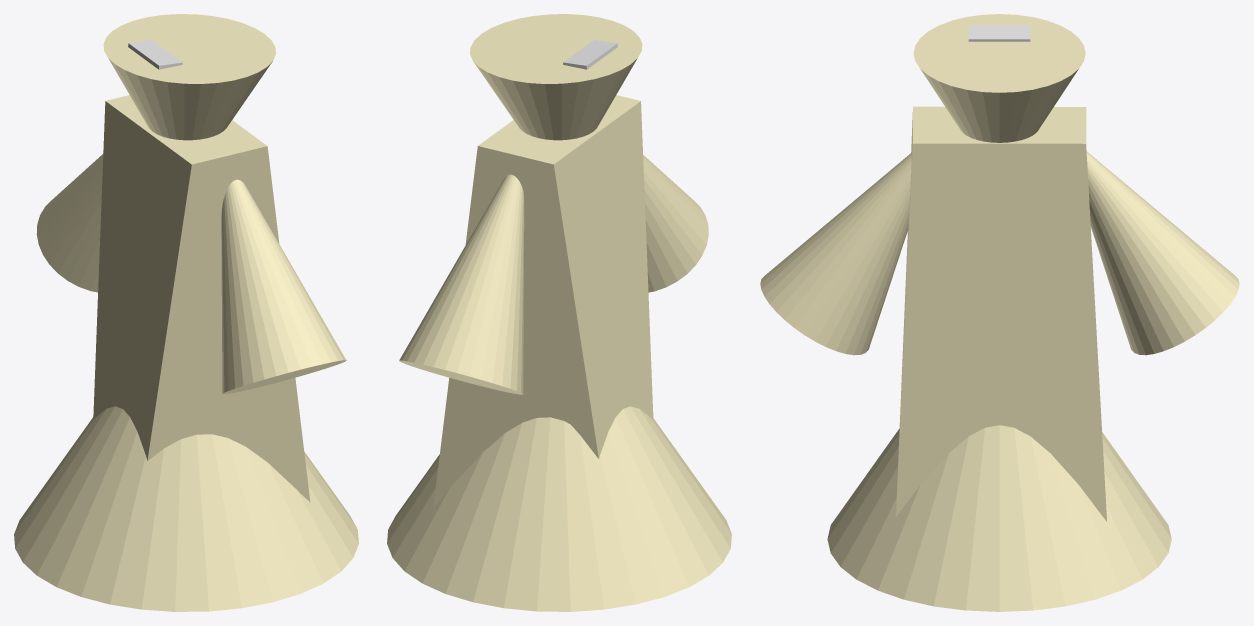
Rendered from cultist.fbx.
The picture shows the model from 3 angles, left to right: view 1: azimuth 30°, elevation 25°; view 2: azimuth 150°, elevation 25°; view 3: azimuth 270°, elevation 25°; orthographic projection.
Parts seen in each view (by area): view 1: Cone.003, Cube, Cone.002, Cone, Cone.001, Cube.001; view 2: Cone.003, Cube, Cone.001, Cone, Cone.002, Cube.001; view 3: Cube, Cone.003, Cone.001, Cone.002, Cone, Cube.001.
Part boxes in pixels (x1,y1,x2,y2): Cone.003: (14,406,358,611); Cube: (93,95,310,501); Cone.002: (221,179,346,394); Cone: (103,14,275,140); Cone.001: (36,154,103,292); Cube.001: (128,40,182,69); Cone.003: (387,406,731,611); Cube: (433,95,653,508); Cone.001: (399,143,524,394); Cone: (470,14,642,140); Cone.002: (643,155,708,292); Cube.001: (563,40,617,69); Cube: (896,106,1106,521); Cone.003: (827,425,1171,611); Cone.001: (1086,151,1239,355); Cone.002: (760,152,911,355); Cone: (913,14,1085,142); Cube.001: (968,25,1030,41).
Size of the model in its own units: 398 by 629 by 554.
